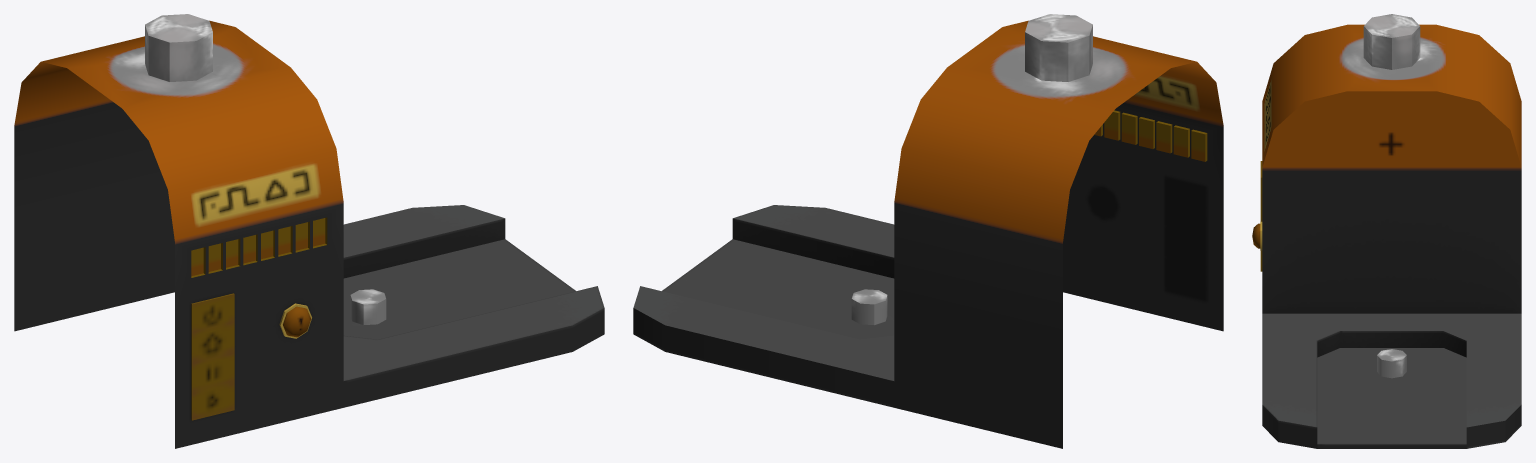
The model's file is PROP_048_RobotCharger.fbx.
The picture shows the model from 3 angles, left to right: view 1: azimuth 30°, elevation 25°; view 2: azimuth 150°, elevation 25°; view 3: azimuth 270°, elevation 25°; orthographic projection. The views are drawn at different scales.
Visible parts, largest first — view 1: Cargadorrobot; view 2: Cargadorrobot; view 3: Cargadorrobot.
Part boxes in pixels (left/top/right/bottom): Cargadorrobot: left=14, top=14, right=604, bottom=448; Cargadorrobot: left=633, top=14, right=1223, bottom=448; Cargadorrobot: left=1252, top=14, right=1521, bottom=448.
Size of the model in its own units: 1.45 by 1.04 by 0.9193.
1 material, 1 textured.
